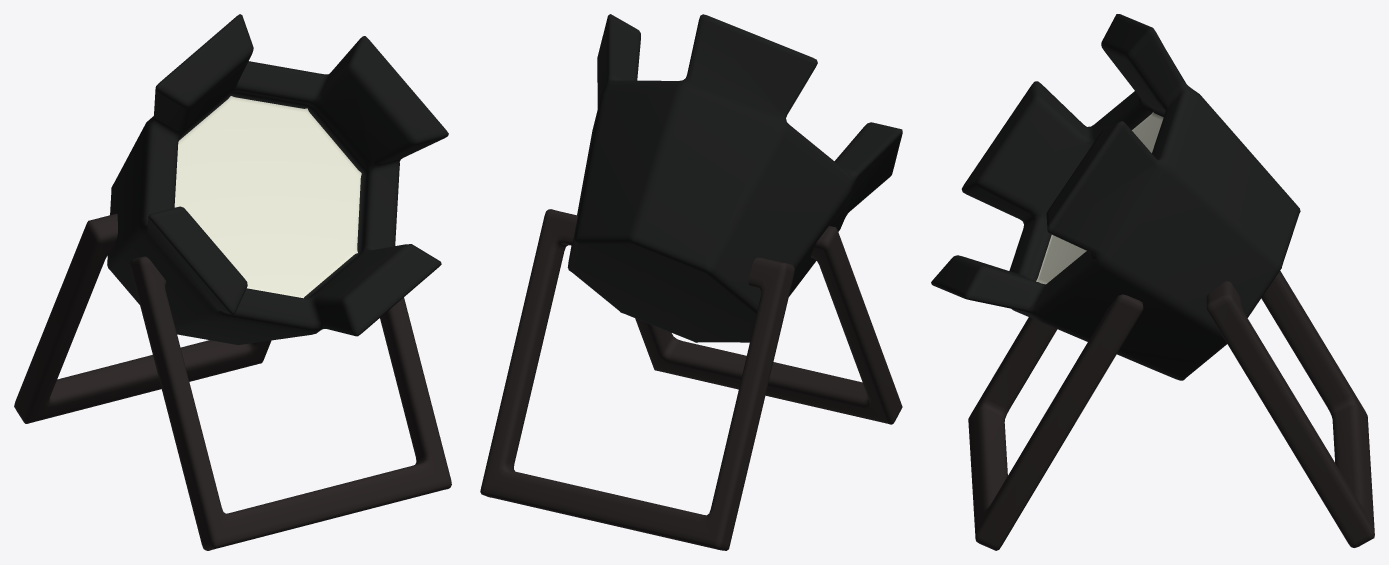
Rendered from Scheinwerfer.fbx.
The picture shows the model from 3 angles, left to right: view 1: azimuth 30°, elevation 25°; view 2: azimuth 150°, elevation 25°; view 3: azimuth 270°, elevation 25°; orthographic projection. The views are drawn at different scales.
Parts seen in each view (by area): view 1: Scheinwerfer; view 2: Scheinwerfer; view 3: Scheinwerfer.
Boxes of the visible parts, <box> form: Scheinwerfer: <box>14,14,451,550</box>; Scheinwerfer: <box>480,14,902,550</box>; Scheinwerfer: <box>931,14,1374,550</box>.
Size of the model in its own units: 48.91 by 68.66 by 59.94.
